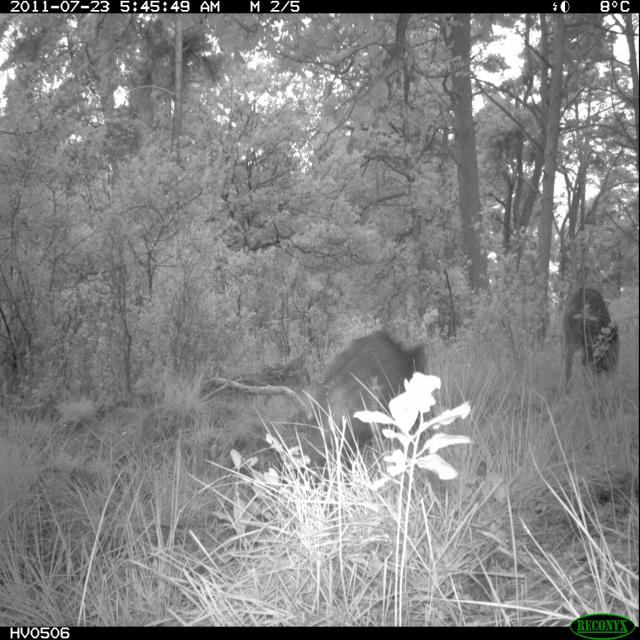boar: (288, 317, 458, 482), (545, 264, 640, 402)
